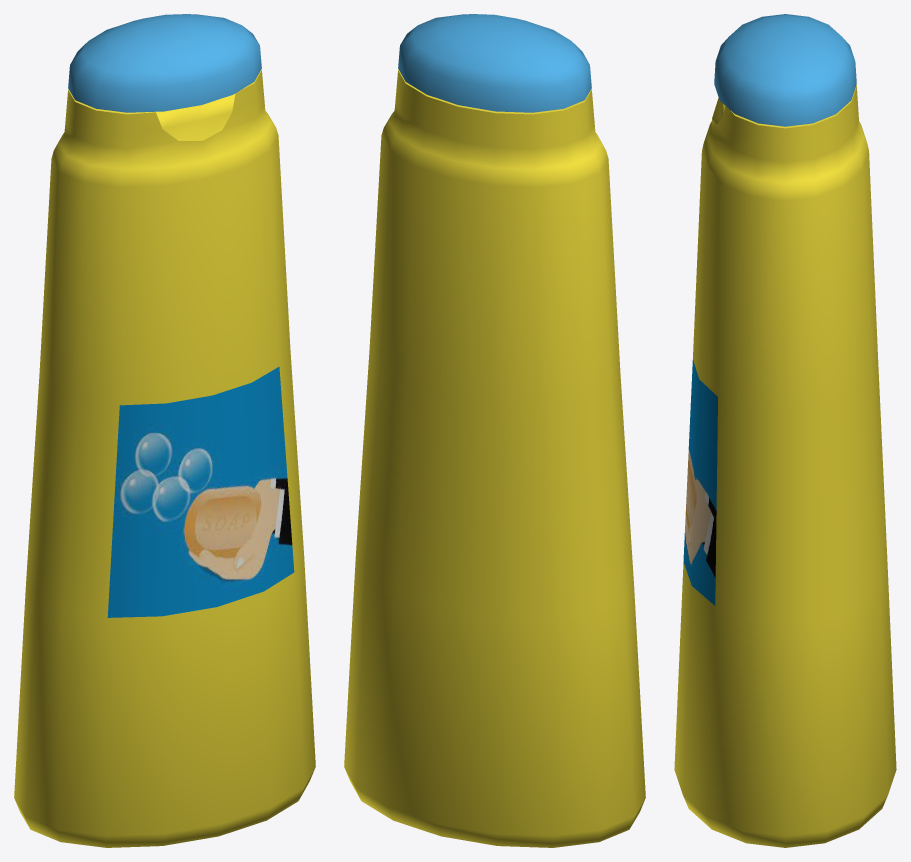
Rendered from Bote de champoo.fbx.
3 renders of one model, left to right at view 1: azimuth 30°, elevation 25°; view 2: azimuth 150°, elevation 25°; view 3: azimuth 270°, elevation 25°, orthographic. The views are drawn at different scales.
Visible parts, largest first — view 1: Bote de champoo; view 2: Bote de champoo; view 3: Bote de champoo.
Part boxes in pixels (x1=…): Bote de champoo: x1=14, y1=14, x2=315, y2=847; Bote de champoo: x1=344, y1=14, x2=645, y2=847; Bote de champoo: x1=674, y1=14, x2=896, y2=847.
Bounding box in the file's own units: 8.38 × 22.22 × 5.93.
3 materials, 1 textured.
